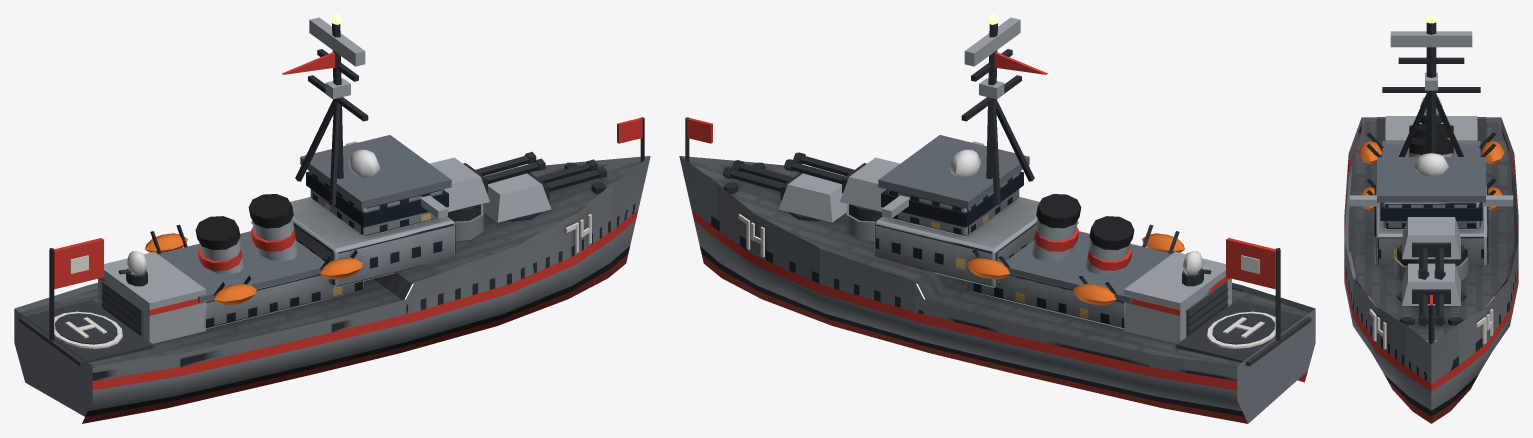
The model's file is destroyer_red.glb.
The picture shows the model from 3 angles, left to right: view 1: azimuth 30°, elevation 25°; view 2: azimuth 150°, elevation 25°; view 3: azimuth 270°, elevation 25°; orthographic projection. The views are drawn at different scales.
Visible parts, largest first — view 1: destroyer_red; view 2: destroyer_red; view 3: destroyer_red.
Boxes of the visible parts, x1,y1,x2,y2 form: destroyer_red: (14,14,650,423); destroyer_red: (679,14,1315,423); destroyer_red: (1344,14,1518,423).
Bounding box in the file's own units: 0.735 × 0.374 × 0.208.
Materials: 2 (1 with a texture image).
